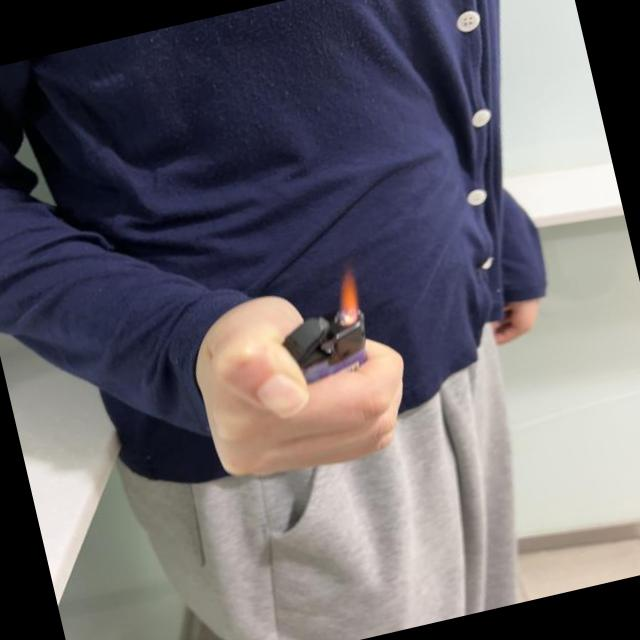Fire: (326, 264, 366, 326)
